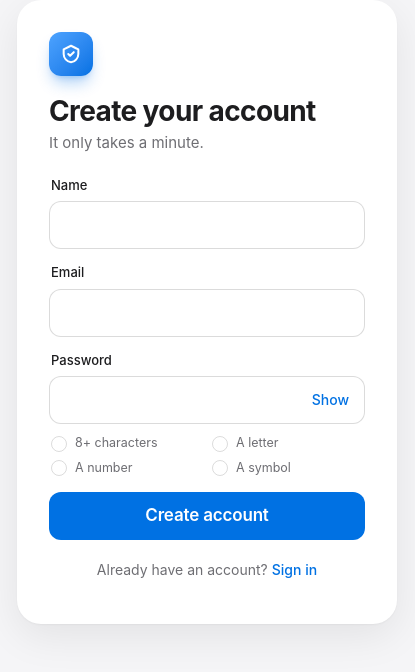
SignUpPage: validation feedback › makes no request and focuses the first invalid field when submitting invalid data
Step 1. Click the button "Create account" → click(207, 516), box left=49, top=492, right=365, bottom=540
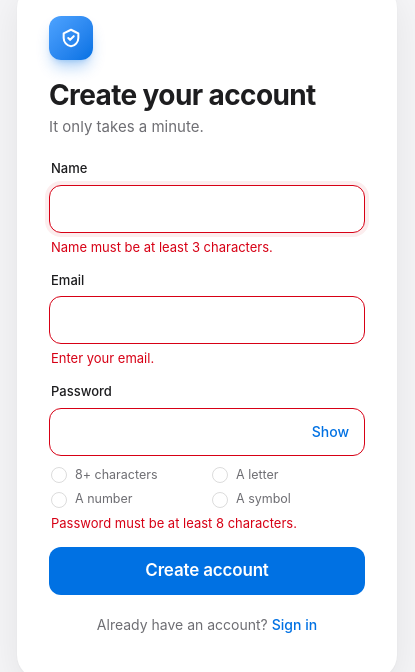
Now the text "Name must be at least 3 characters." is shown, box left=51, top=239, right=273, bottom=255
Now the text "Enter your email." is shown, box left=51, top=350, right=154, bottom=366
Now the text "Password must be at least 8 characters." is shown, box left=51, top=515, right=297, bottom=531
